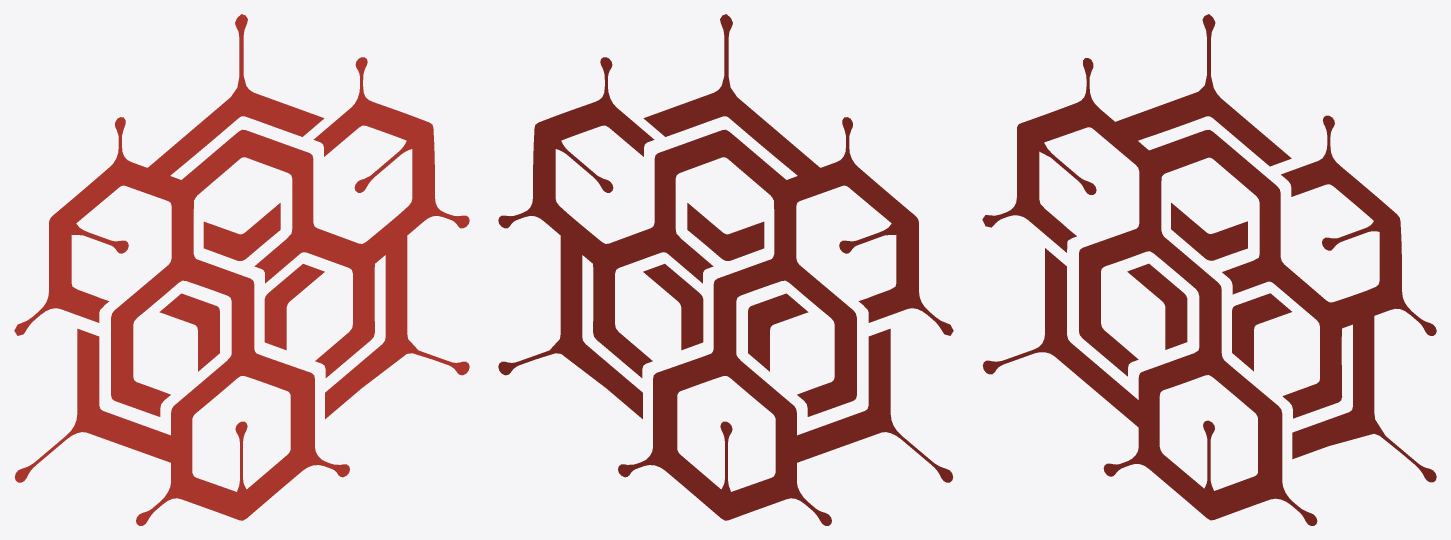
Rendered from GRAF_3_14.glb.
The picture shows the model from 3 angles, left to right: view 1: azimuth 30°, elevation 25°; view 2: azimuth 150°, elevation 25°; view 3: azimuth 330°, elevation 25°; orthographic projection.
Parts seen in each view (by area): view 1: Curve.001; view 2: Curve.001; view 3: Curve.001.
Boxes of the visible parts, box(x1,y1,x2,y2) form: Curve.001: box(14, 14, 469, 525); Curve.001: box(498, 14, 953, 525); Curve.001: box(982, 14, 1436, 525).
Size of the model in its own units: 3.45 by 3.67 by 1.49e-07.
